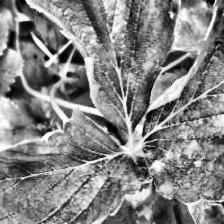Powdery Mildew Leaf: (16, 0, 182, 138), (131, 0, 224, 205), (0, 107, 152, 224)
